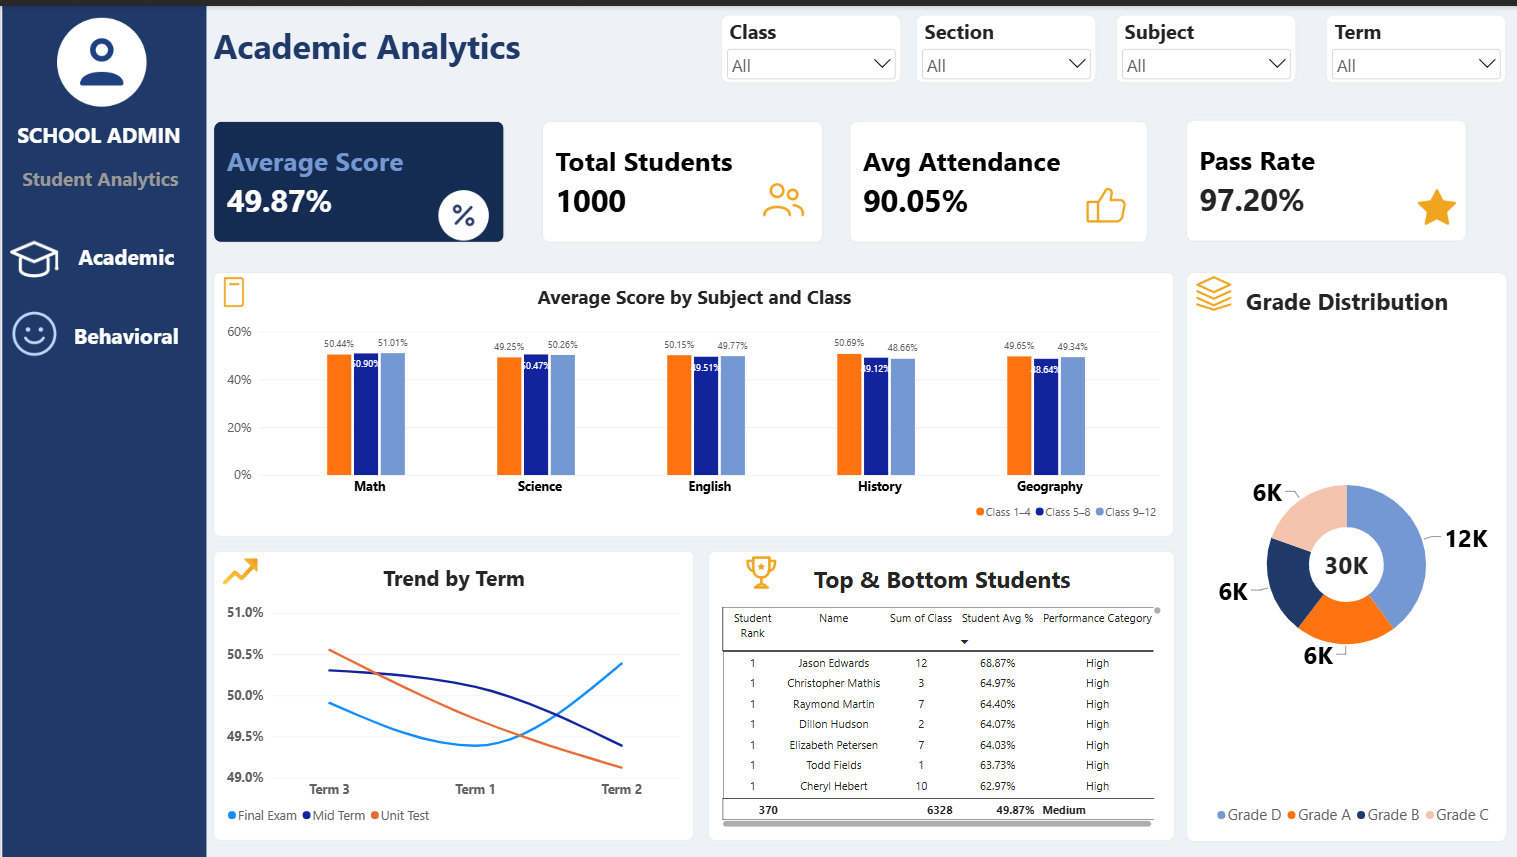

This screenshot's page, from the dashboard's own definition file:
{"tool":"powerbi","page":{"name":"Academic","canvas":[1920,1080],"ordinal":0},"visuals":[{"type":"shape","box":[1.9,0,258.8,1078.7],"z":0,"group":"g1"},{"type":"textbox","box":[269.7,19.8,458.4,66.5],"z":0},{"type":"cardVisual","title":"Average Score","fields":{"Data":["MeasureTable.Pass Rate"]},"box":[1499.3,143.8,356,154.6],"z":0,"group":"g4"},{"type":"cardVisual","title":"Average Score","fields":{"Data":["MeasureTable.Avg Score %"]},"box":[269.7,145.6,368.5,154.6],"z":0,"group":"g2"},{"type":"cardVisual","title":"Average Score","fields":{"Data":["MeasureTable.Total Students"]},"box":[684.9,145.6,356,154.6],"z":0,"group":"g3"},{"type":"cardVisual","title":"Average Score","fields":{"Data":["MeasureTable.Attendance %"]},"box":[1073.3,145.6,377.5,154.6],"z":0,"group":"g5"},{"type":"slicer","fields":{"Values":["Scores.Term"]},"box":[1677.3,10.8,228.3,86.3],"z":1000},{"type":"image","box":[7.2,11.1,239.4,120.2],"z":1000,"group":"g1"},{"type":"image","box":[952.9,214.6,75.5,62.9],"z":1000,"group":"g3"},{"type":"image","box":[1356.9,223.6,80.9,57.5],"z":1000,"group":"g5"},{"type":"image","box":[1781,228.6,71.9,52.1],"z":1000,"group":"g4"},{"type":"image","box":[540,230.8,92.1,68.3],"z":1000,"group":"g2"},{"type":"slicer","fields":{"Values":["Students.Class"]},"box":[911.5,10.8,228.3,86.3],"z":2000},{"type":"textbox","box":[20.9,143.8,239.7,39.6],"z":2000,"group":"g1"},{"type":"slicer","fields":{"Values":["Students.Section"]},"box":[1157.8,10.8,228.3,86.3],"z":3000},{"type":"textbox","box":[26.6,203.1,226.4,37.8],"z":3000,"group":"g1"},{"type":"slicer","fields":{"Values":["Scores.Subject"]},"box":[1411.2,10.8,228.3,86.3],"z":4000},{"type":"image","box":[0,284,83.7,77.3],"z":4000,"group":"g1"},{"type":"group","id":"g1","title":"Group 1","box":[0,0,260.7,1078.7],"z":5000},{"type":"image","box":[7.6,384.7,68.5,61.1],"z":5000,"group":"g1"},{"type":"group","id":"g2","title":"Group 2","box":[269.7,145.6,368.5,154.6],"z":6000},{"type":"pageNavigator","box":[57.1,271.5,203.6,192.4],"z":6000,"group":"g1"},{"type":"group","id":"g3","title":"Group 2","box":[684.9,145.6,356,154.6],"z":7000},{"type":"group","id":"g4","title":"Group 2","box":[1499.3,143.8,356,154.6],"z":8000},{"type":"group","id":"g5","title":"Group 2","box":[1073.3,145.6,377.5,154.6],"z":9000},{"type":"clusteredColumnChart","title":"Average Score by Subject and Class","fields":{"Category":["Scores.Subject"],"Series":["Students.Class Group"],"Y":["MeasureTable.Avg Score %"]},"box":[269.7,336.2,1215.3,334.4],"z":10000},{"type":"image","box":[269.7,336.2,48.5,50.3],"z":11000},{"type":"lineChart","title":"Trend by Term","fields":{"Category":["Scores.Term"],"Series":["Scores.ExamType"],"Y":["MeasureTable.Avg Score %"]},"box":[269.7,690.3,607.6,366.7],"z":12000},{"type":"image","box":[269.7,690.3,70.1,53.9],"z":13000},{"type":"tableEx","title":"Top & Bottom Students","fields":{"Values":["MeasureTable.Student Rank","Students.Name","Sum(Students.Class)","MeasureTable.Student Avg %","MeasureTable.Performance Category"]},"box":[895.3,690.3,589.7,366.7],"z":14000},{"type":"image","box":[927.6,690.3,70.1,53.9],"z":15000},{"type":"donutChart","title":"Grade Distribution","fields":{"Category":["Scores.Grade"],"Y":["MeasureTable.Exam Records"]},"box":[1499.3,336.2,406.3,720.9],"z":16000},{"type":"image","box":[1499.3,336.2,70.1,53.9],"z":17000}]}

Visuals, with their boxes on the page's 1920x1080 design canvas (x1, y1, x2, y2). These are canvas units, not pixel positions in the 1517x857 screenshot, which may show the page scaled, cropped or inside an application window:
shape: l=2, t=0, r=261, b=1079
textbox: l=270, t=20, r=728, b=86
"Average Score" cardVisual: l=1499, t=144, r=1855, b=298
"Average Score" cardVisual: l=270, t=146, r=638, b=300
"Average Score" cardVisual: l=685, t=146, r=1041, b=300
"Average Score" cardVisual: l=1073, t=146, r=1451, b=300
slicer - Scores.Term: l=1677, t=11, r=1906, b=97
image: l=7, t=11, r=247, b=131
image: l=953, t=215, r=1028, b=278
image: l=1357, t=224, r=1438, b=281
image: l=1781, t=229, r=1853, b=281
image: l=540, t=231, r=632, b=299
slicer - Students.Class: l=912, t=11, r=1140, b=97
textbox: l=21, t=144, r=261, b=183
slicer - Students.Section: l=1158, t=11, r=1386, b=97
textbox: l=27, t=203, r=253, b=241
slicer - Scores.Subject: l=1411, t=11, r=1640, b=97
image: l=0, t=284, r=84, b=361
"Group 1" group: l=0, t=0, r=261, b=1079
image: l=8, t=385, r=76, b=446
"Group 2" group: l=270, t=146, r=638, b=300
pageNavigator: l=57, t=272, r=261, b=464
"Group 2" group: l=685, t=146, r=1041, b=300
"Group 2" group: l=1499, t=144, r=1855, b=298
"Group 2" group: l=1073, t=146, r=1451, b=300
"Average Score by Subject and Class" clusteredColumnChart: l=270, t=336, r=1485, b=671
image: l=270, t=336, r=318, b=386
"Trend by Term" lineChart: l=270, t=690, r=877, b=1057
image: l=270, t=690, r=340, b=744
"Top & Bottom Students" tableEx: l=895, t=690, r=1485, b=1057
image: l=928, t=690, r=998, b=744
"Grade Distribution" donutChart: l=1499, t=336, r=1906, b=1057
image: l=1499, t=336, r=1569, b=390
